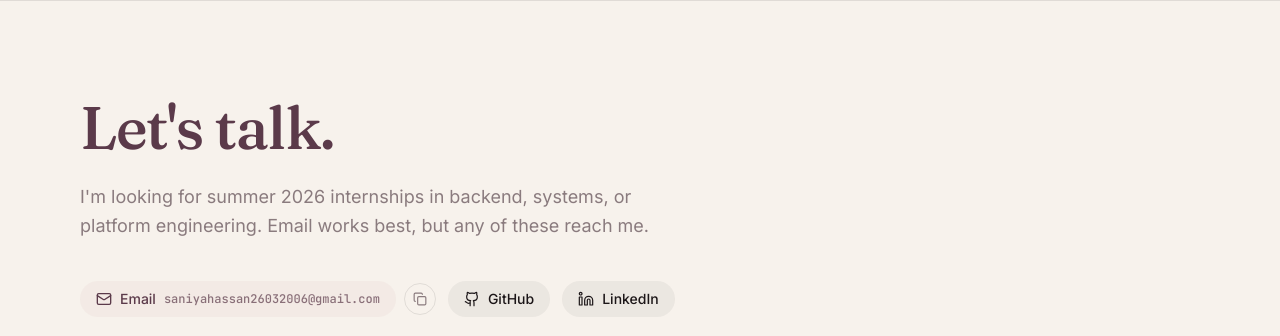
Test: Contact › flashes a Copied status after clicking the copy button
Click the button named "copy email address" at (420, 299), box [404,283,436,315]
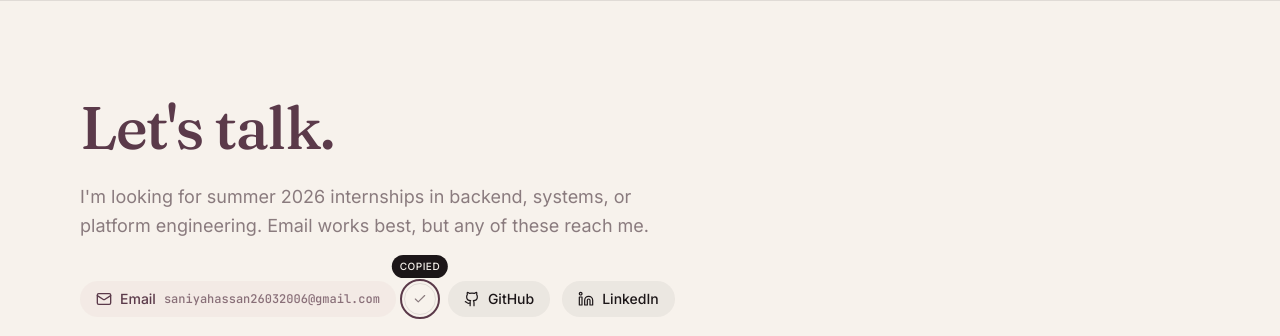
Check: the message reads "Copied", box [400,260,440,272]
